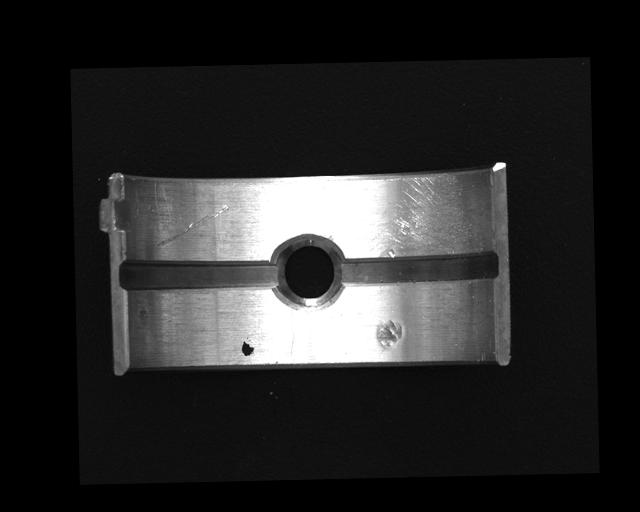blot: (241, 336, 255, 357)
bruise: (375, 318, 403, 353)
gap: (335, 248, 500, 287), (118, 257, 276, 292)
hole: (271, 235, 343, 312)
nick: (154, 202, 230, 247)
scratch: (337, 172, 484, 259)
